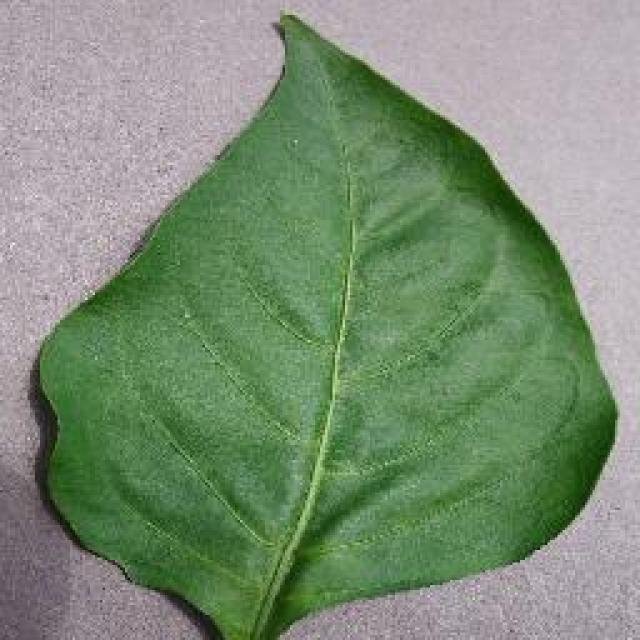Chilli_Healthy: (32, 10, 620, 638)
